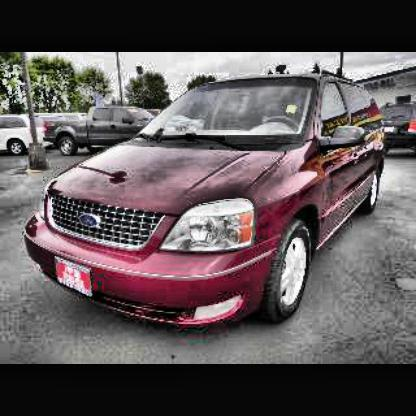Ford Freestar Minivan 2007: (23, 75, 388, 325)
